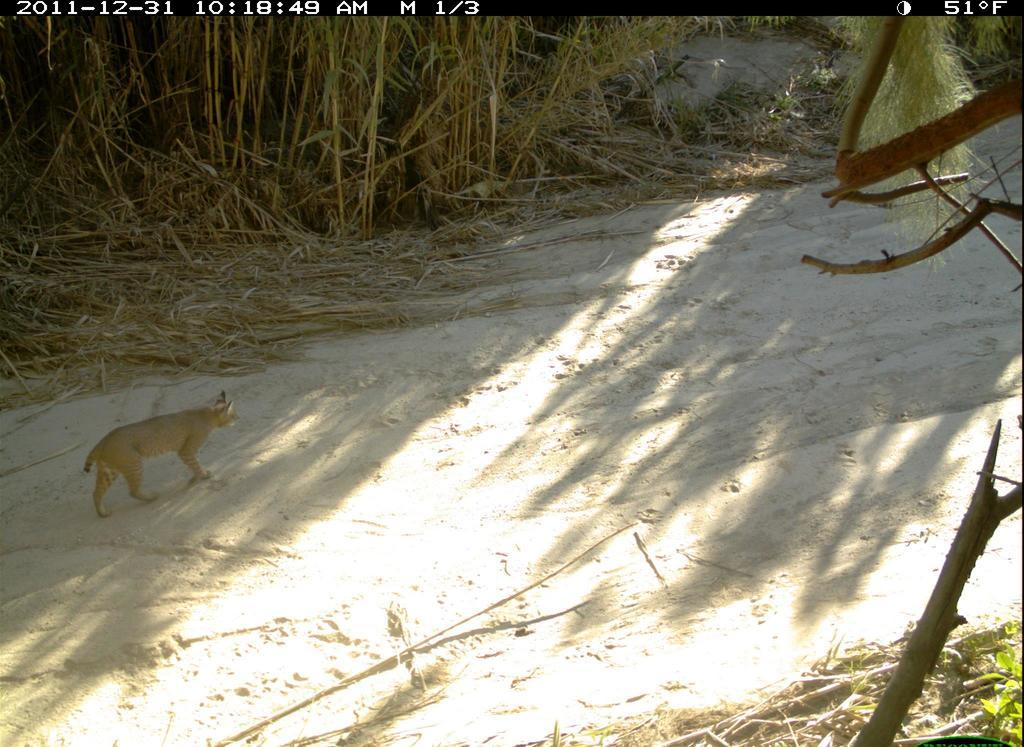bobcat: (77, 383, 248, 528)
